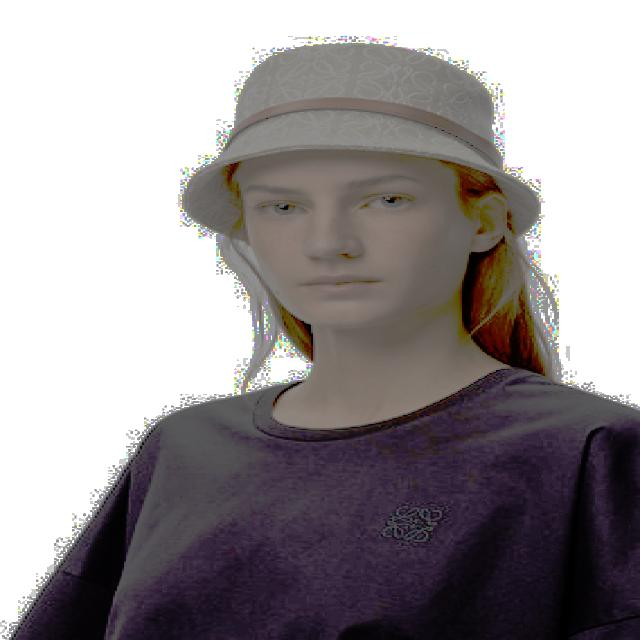TOPI: (185, 40, 543, 249)
